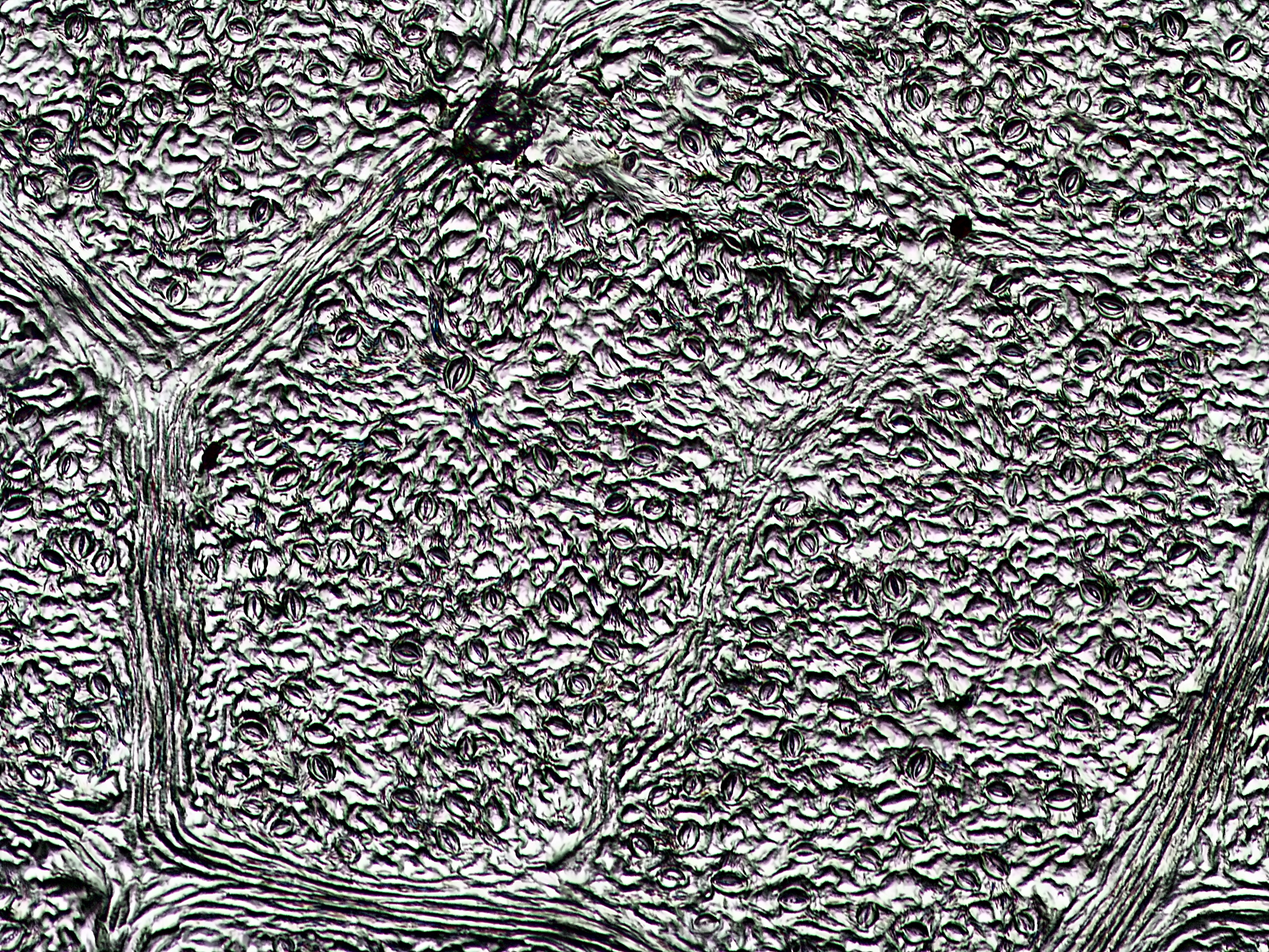stomata: (440, 354, 472, 392), (905, 747, 935, 783), (236, 721, 272, 748), (801, 81, 832, 112), (980, 848, 1010, 879), (308, 752, 337, 784), (281, 588, 306, 625), (710, 871, 750, 894), (719, 768, 744, 804), (404, 701, 440, 726), (979, 24, 1009, 53), (998, 116, 1030, 143), (775, 888, 811, 912), (436, 30, 463, 62), (1162, 8, 1188, 41), (1155, 427, 1189, 452), (789, 837, 823, 862), (890, 627, 924, 652), (60, 10, 88, 40), (887, 686, 917, 714), (1102, 133, 1133, 160), (1058, 167, 1085, 198), (898, 822, 929, 849), (232, 129, 264, 155), (269, 465, 302, 490), (533, 443, 558, 476), (292, 539, 321, 567), (957, 85, 983, 116), (1096, 292, 1127, 318), (880, 570, 906, 601), (734, 164, 760, 195), (1164, 542, 1199, 565), (828, 697, 863, 720), (779, 727, 804, 759), (183, 83, 216, 107), (1083, 499, 1116, 523), (855, 899, 879, 932), (1223, 35, 1251, 63), (196, 251, 228, 275), (679, 123, 702, 156), (1006, 474, 1029, 507), (1058, 457, 1085, 485), (624, 374, 652, 401), (442, 791, 470, 818), (1101, 59, 1130, 85), (1080, 578, 1106, 607), (11, 403, 40, 429), (1011, 625, 1041, 650), (901, 919, 931, 944), (1, 495, 31, 520), (262, 91, 293, 115), (288, 125, 319, 149), (1145, 684, 1176, 708), (632, 97, 667, 118), (369, 428, 404, 449), (21, 173, 48, 200), (923, 21, 949, 49), (37, 547, 65, 573), (414, 490, 436, 523), (391, 642, 424, 664), (904, 81, 929, 110), (1046, 0, 1084, 19), (854, 848, 884, 872), (747, 615, 777, 639), (780, 202, 810, 226), (877, 221, 901, 251), (990, 70, 1013, 101), (558, 256, 581, 287), (542, 715, 573, 738), (1186, 495, 1218, 517), (1163, 202, 1190, 228), (186, 208, 214, 233), (488, 494, 516, 519), (436, 825, 460, 854), (592, 639, 621, 663), (27, 127, 57, 150), (940, 921, 970, 944), (773, 586, 803, 609), (280, 683, 310, 706), (1104, 465, 1126, 496), (656, 867, 687, 889), (244, 591, 266, 622), (629, 445, 660, 467), (1045, 788, 1079, 808), (1028, 298, 1054, 324), (70, 166, 97, 191), (735, 61, 762, 86), (1065, 85, 1090, 112), (986, 778, 1013, 803), (812, 565, 839, 590), (740, 641, 772, 662), (88, 672, 112, 700), (692, 259, 716, 287), (304, 722, 333, 745), (391, 788, 420, 811), (1106, 642, 1128, 672), (1138, 491, 1169, 512), (540, 371, 571, 392), (484, 674, 505, 705), (1182, 68, 1207, 94), (823, 519, 849, 544), (629, 833, 655, 858), (818, 313, 843, 339), (1113, 23, 1137, 50), (1102, 97, 1129, 121), (1179, 347, 1203, 374), (1128, 587, 1155, 611), (970, 899, 994, 926), (1126, 330, 1154, 353), (1074, 349, 1102, 372), (453, 769, 481, 792), (176, 17, 205, 39), (251, 197, 273, 226), (1117, 393, 1146, 415), (677, 821, 699, 850), (607, 529, 636, 551), (94, 84, 124, 105), (164, 185, 194, 206), (70, 711, 100, 732), (1195, 189, 1220, 214), (1014, 908, 1039, 933), (758, 680, 783, 705), (22, 761, 47, 786), (714, 302, 739, 327), (501, 627, 526, 652), (30, 729, 54, 755), (641, 496, 667, 520), (828, 795, 855, 818), (1249, 86, 1269, 117), (117, 117, 139, 145), (165, 278, 187, 306), (694, 74, 722, 96), (999, 343, 1027, 365), (1032, 760, 1060, 782), (844, 580, 866, 608), (0, 924, 22, 952), (1147, 250, 1176, 271), (1116, 533, 1145, 554), (690, 736, 719, 757), (456, 730, 475, 762), (254, 434, 279, 458), (534, 678, 559, 702), (1024, 62, 1047, 88), (74, 748, 97, 774), (334, 324, 360, 347), (482, 590, 505, 616), (232, 66, 254, 93), (1183, 464, 1210, 486), (1059, 380, 1087, 401), (58, 450, 79, 478), (71, 532, 92, 560), (560, 419, 588, 440), (692, 912, 721, 932), (349, 515, 373, 539), (227, 18, 250, 43), (639, 60, 664, 83), (901, 445, 926, 468), (380, 588, 405, 611), (402, 22, 428, 44), (900, 5, 926, 27), (1207, 224, 1233, 246), (1035, 427, 1061, 449), (1086, 426, 1108, 452), (983, 371, 1009, 393), (1067, 708, 1093, 730), (707, 693, 733, 715), (467, 638, 489, 664), (1014, 185, 1044, 204), (249, 548, 268, 578), (953, 132, 974, 159), (276, 511, 303, 532), (957, 500, 977, 528), (719, 134, 747, 154), (305, 61, 329, 84), (955, 869, 979, 892), (88, 496, 111, 520), (589, 275, 612, 299), (682, 337, 706, 360), (567, 672, 591, 695), (545, 592, 569, 615), (155, 212, 174, 241), (886, 415, 915, 434), (1014, 825, 1043, 844), (142, 95, 164, 120), (425, 544, 450, 566), (780, 494, 806, 515), (856, 246, 874, 276), (329, 540, 349, 567), (141, 5, 164, 28), (1046, 123, 1069, 146), (617, 680, 640, 703), (1139, 371, 1163, 393), (1010, 400, 1034, 422), (618, 150, 640, 174), (360, 59, 385, 80), (683, 771, 704, 796), (585, 702, 606, 727), (318, 171, 344, 191), (930, 480, 956, 500), (5, 458, 32, 477), (503, 253, 522, 280), (603, 493, 630, 512), (1236, 270, 1259, 292), (1141, 644, 1164, 666), (400, 562, 423, 584), (219, 168, 243, 189), (883, 47, 904, 71), (860, 661, 884, 682), (618, 563, 639, 587), (380, 255, 398, 282), (202, 552, 220, 579), (880, 528, 902, 550), (720, 229, 742, 251), (365, 93, 388, 114), (1086, 533, 1107, 556), (797, 533, 818, 556), (382, 328, 403, 351), (514, 474, 535, 497), (641, 549, 662, 572), (1120, 204, 1144, 224), (637, 309, 661, 329), (241, 797, 265, 817), (541, 144, 560, 169), (358, 552, 377, 577), (647, 786, 673, 804), (617, 804, 643, 822), (564, 205, 585, 227), (227, 760, 249, 781), (96, 549, 113, 576), (735, 108, 759, 127), (456, 316, 475, 340), (1247, 417, 1262, 447), (621, 238, 639, 263), (379, 0, 413, 13), (818, 149, 839, 170), (987, 318, 1011, 336), (934, 391, 958, 409), (0, 634, 21, 654), (398, 236, 417, 258), (421, 599, 440, 621), (990, 275, 1012, 293), (404, 196, 422, 218), (951, 552, 967, 575), (269, 819, 293, 834), (528, 184, 542, 206), (408, 72, 424, 91)
